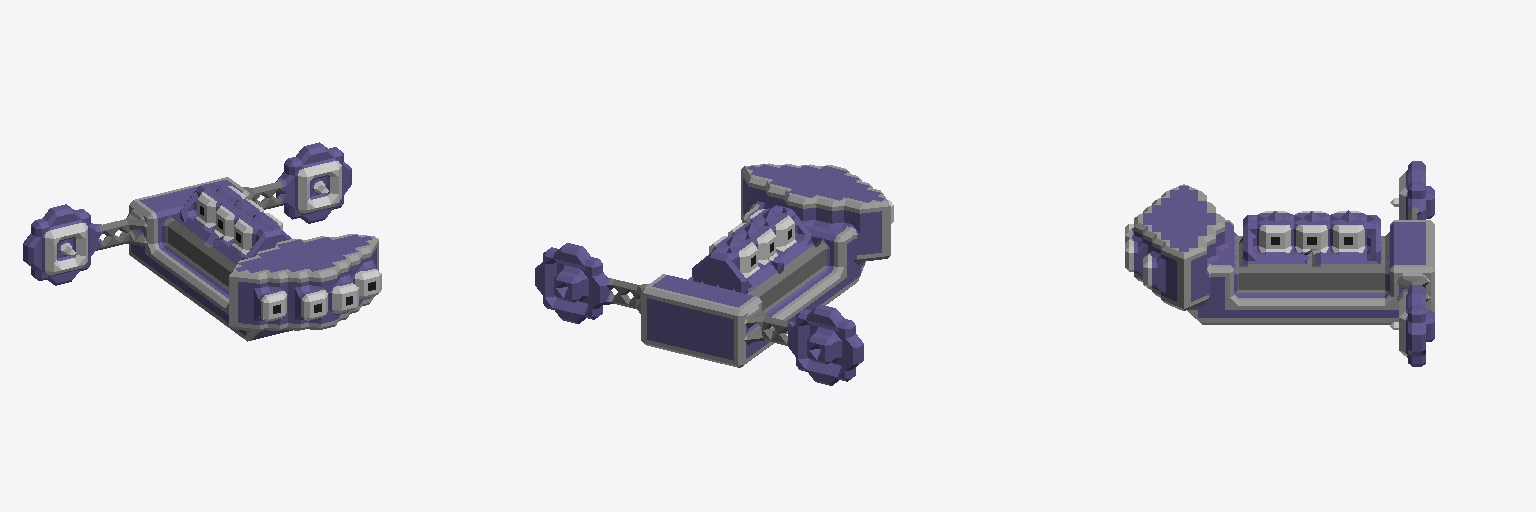
3 views of the same model, side by side, from view 1: azimuth 30°, elevation 25°; view 2: azimuth 150°, elevation 25°; view 3: azimuth 270°, elevation 25° (orthographic).
Bounding box in the file's own units: 41 × 11 × 34.
1 materials, 1 textured.